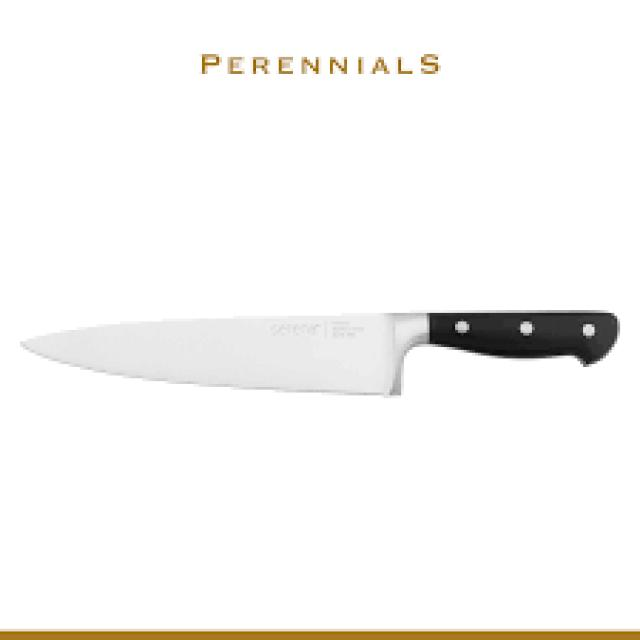Knife: (23, 307, 620, 395)
